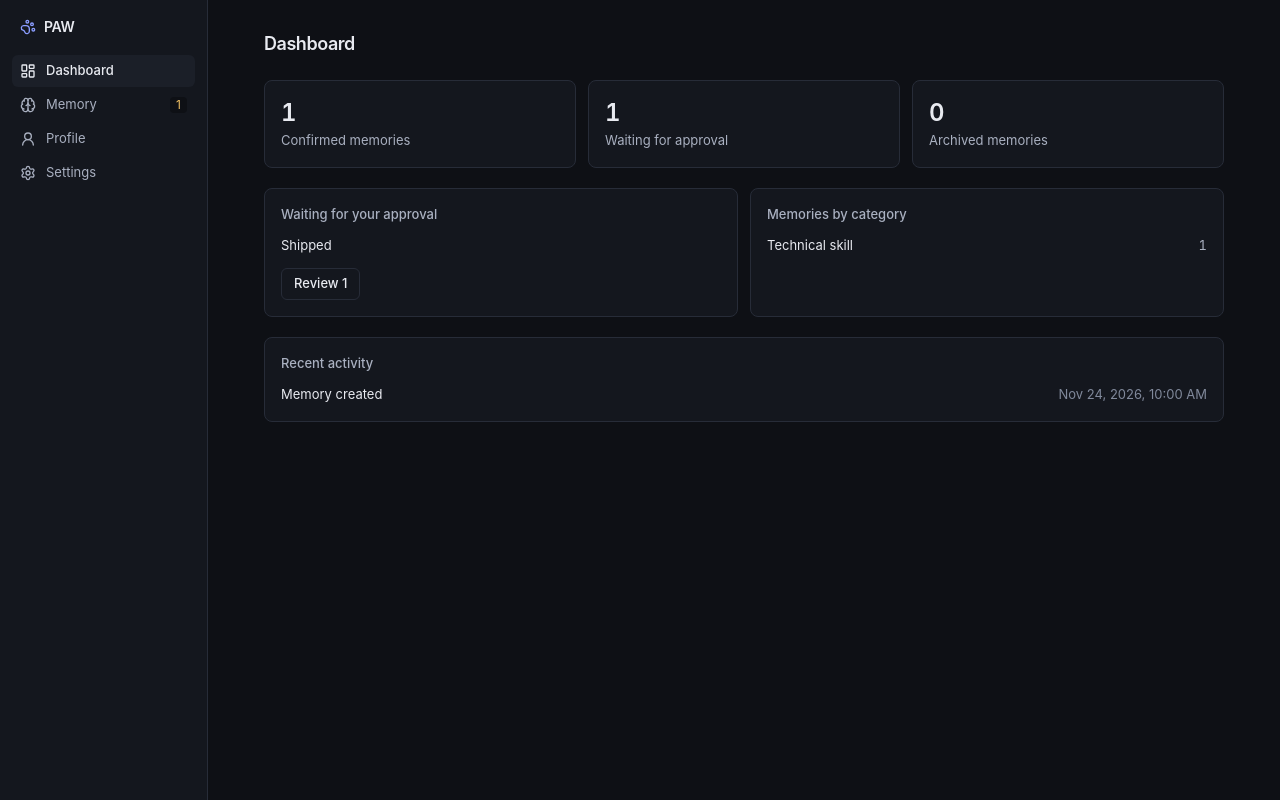
it: memory › edits with the version that was read
Click the button "Memory 1". click: (104, 105)
box: top-left (12, 89), bottom-right (195, 121)
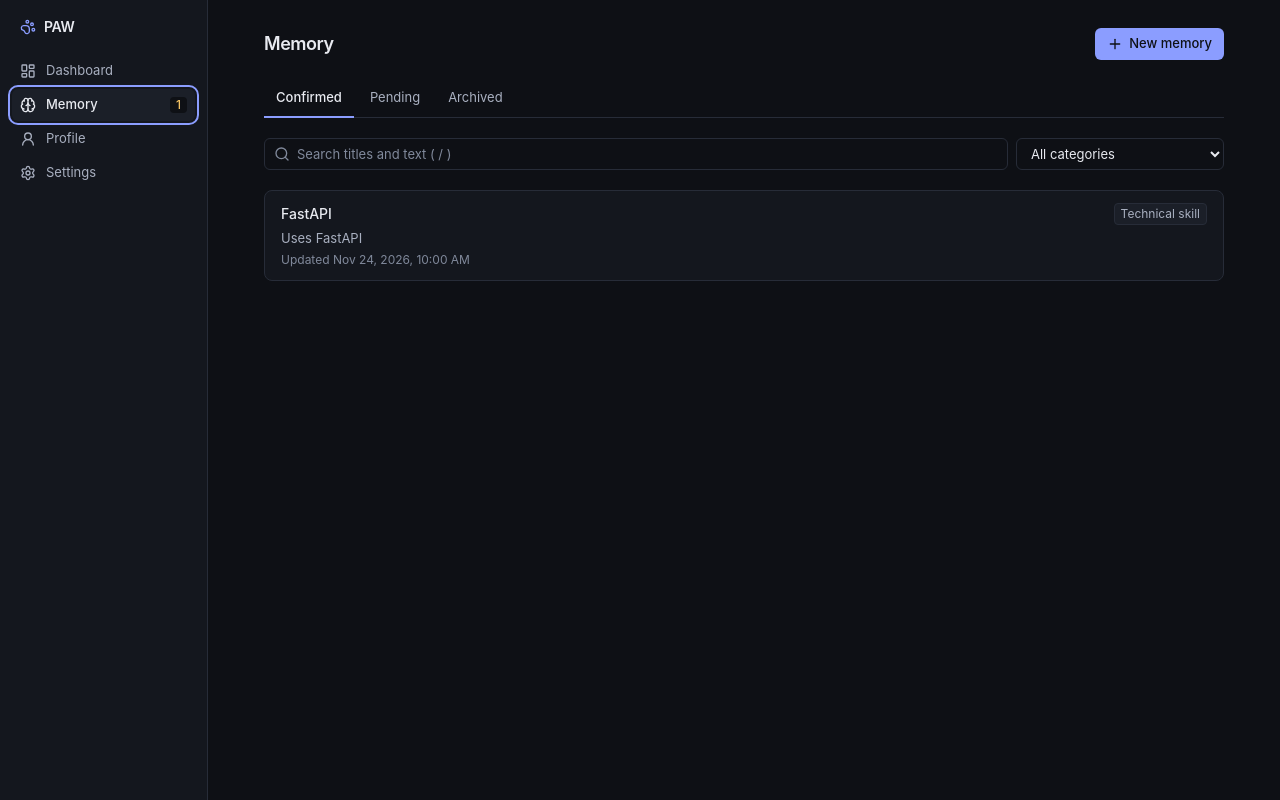
Click the button "FastAPI". click: (306, 214)
box: top-left (265, 190), bottom-right (1223, 280)
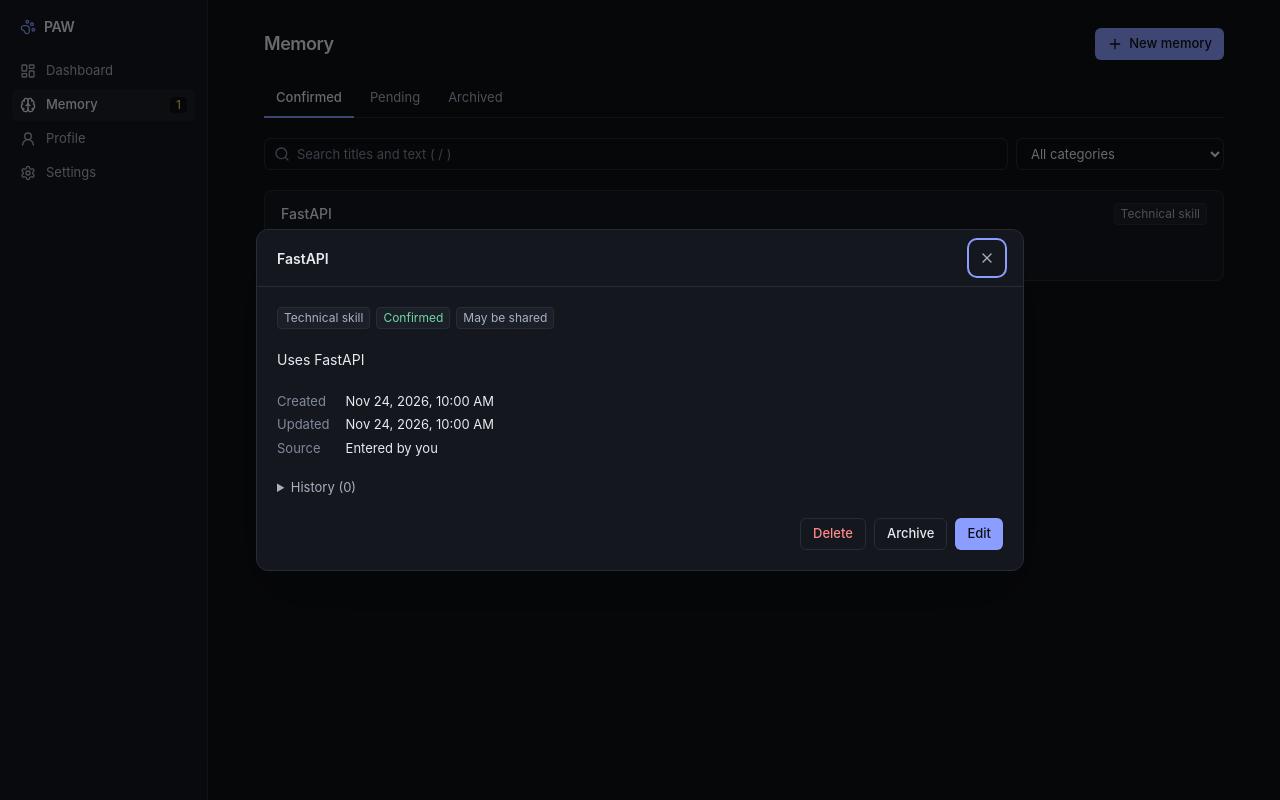
Click the button "Edit". click: (979, 534)
box: top-left (955, 518), bottom-right (1003, 550)
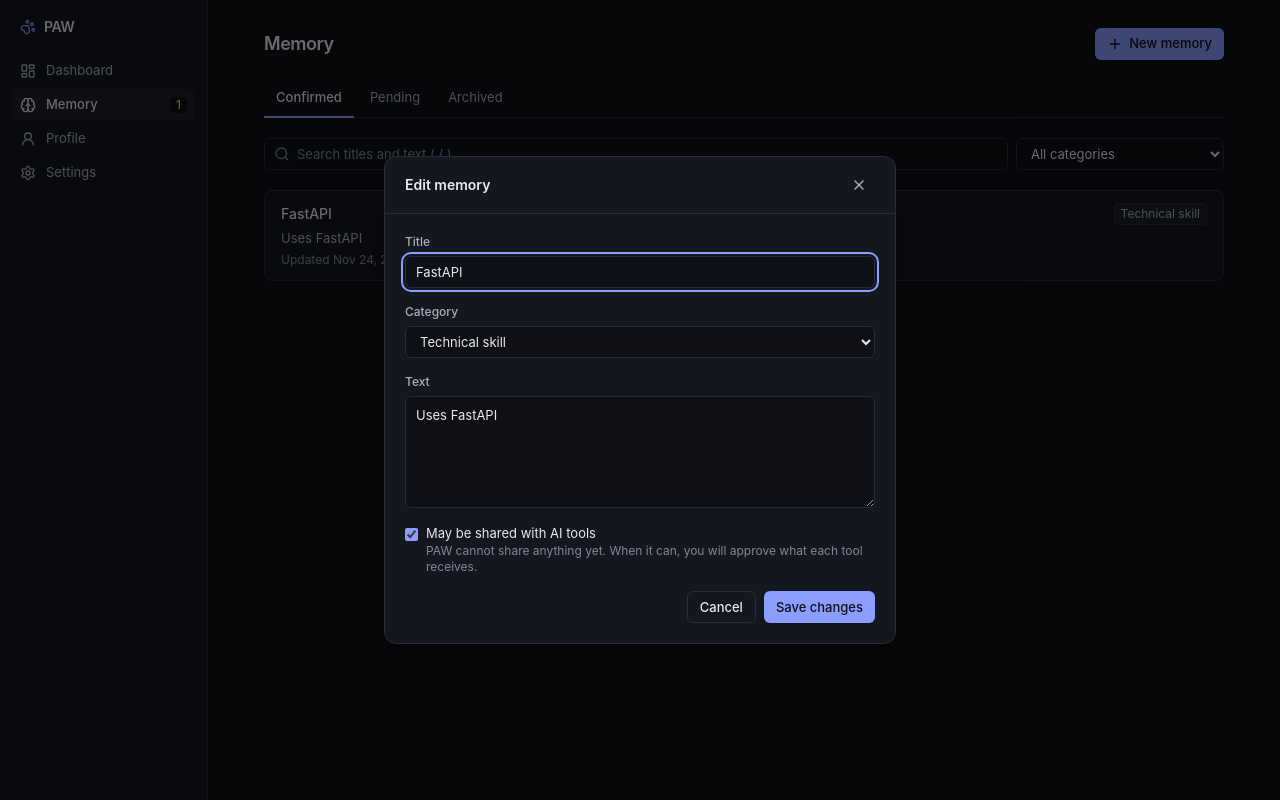
Click the button "Save changes". click: (819, 607)
box: top-left (764, 591), bottom-right (875, 623)
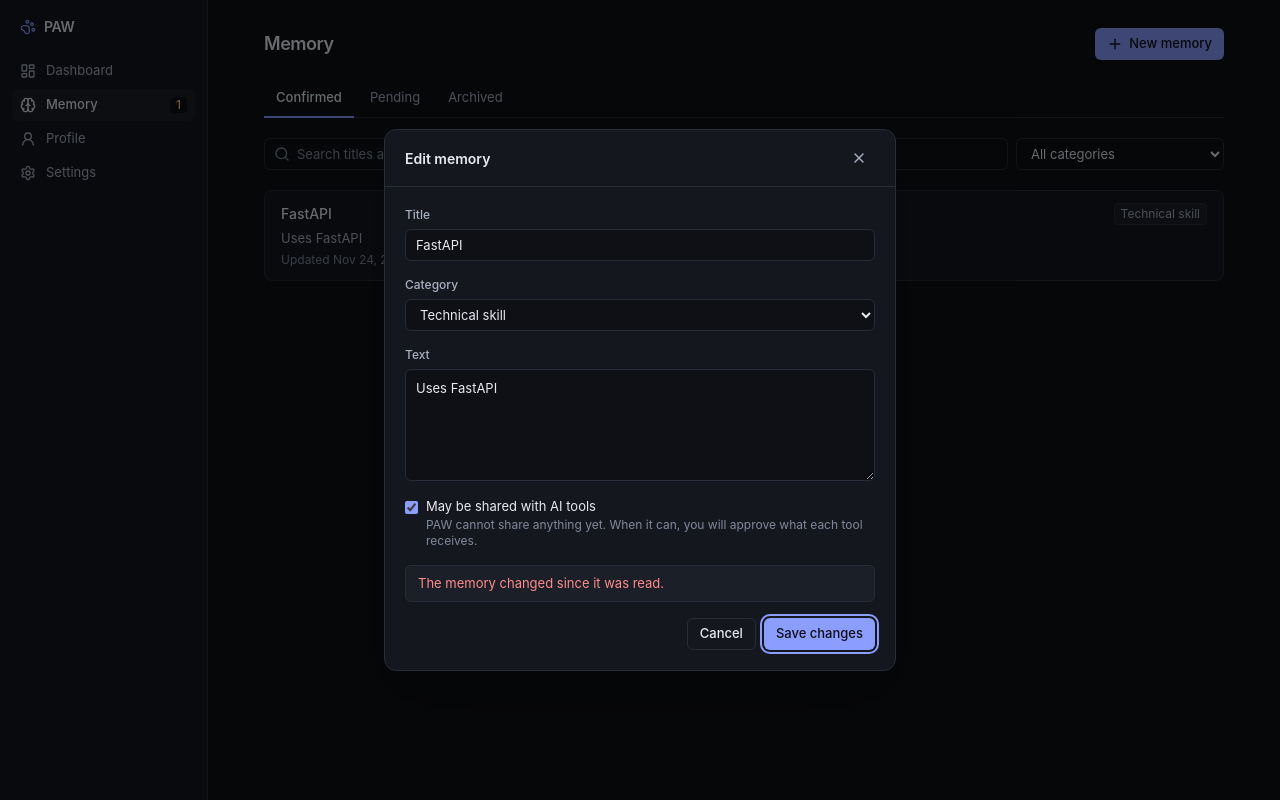
Result: the message shows "changed since it was read" at top-left (418, 574), bottom-right (664, 590)
